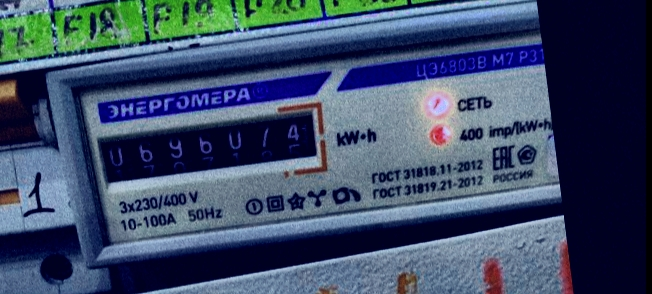0: (103, 140, 125, 166), (224, 123, 243, 150)
4: (281, 116, 300, 140)
5: (285, 141, 303, 158)
6: (195, 127, 215, 155), (135, 137, 154, 162)
7: (253, 121, 273, 147)
9: (164, 132, 183, 160)
screen: (85, 96, 331, 194)
